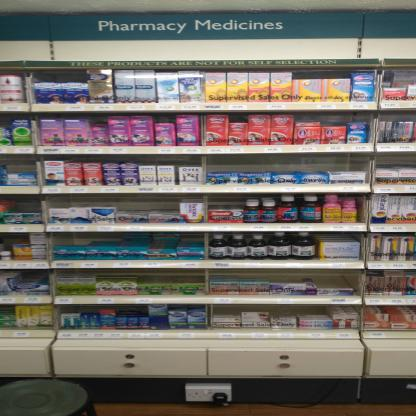Void: (206, 154, 365, 172), (119, 196, 180, 212), (146, 269, 200, 285), (55, 196, 117, 207), (316, 272, 356, 289), (9, 196, 38, 210), (96, 269, 134, 278), (6, 157, 32, 170), (214, 306, 238, 314)
